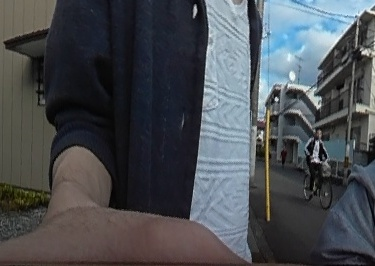person: (306, 126, 326, 197)
